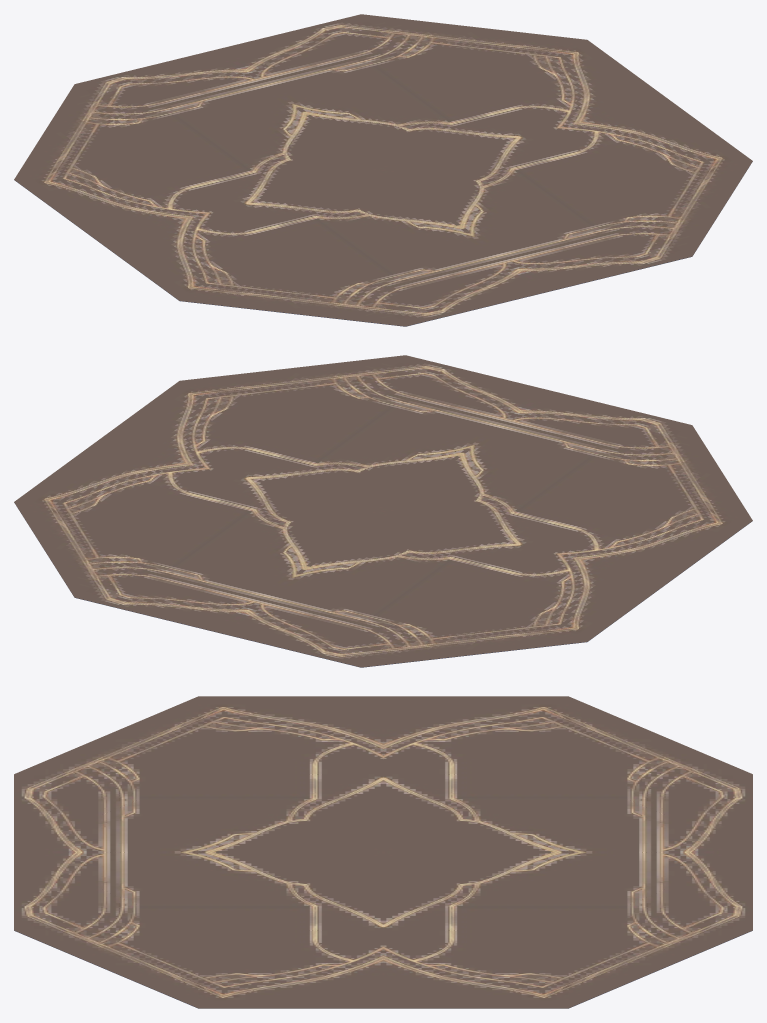
3 renders of one model, top to bottom at view 1: azimuth 30°, elevation 25°; view 2: azimuth 150°, elevation 25°; view 3: azimuth 270°, elevation 25°, orthographic. The views are drawn at different scales.
Bounding box in the file's own units: 82.43 × 0.0389 × 82.43.
3 materials, 3 textured.
